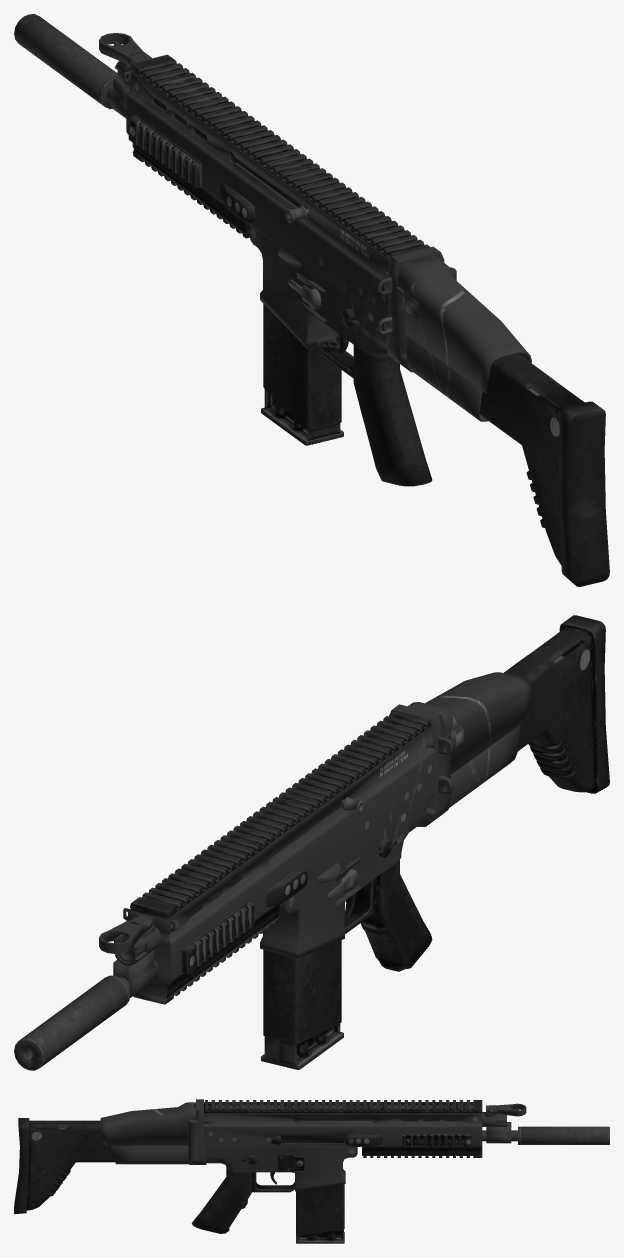
3 renders of one model, top to bottom at view 1: azimuth 30°, elevation 25°; view 2: azimuth 150°, elevation 25°; view 3: azimuth 270°, elevation 25°, orthographic. The views are drawn at different scales.
Parts seen in each view (by area): view 1: Scar_Material.003_0; view 2: Scar_Material.003_0; view 3: Scar_Material.003_0.
Boxes of the visible parts, x1,y1,x2,y2 form: Scar_Material.003_0: (14, 14, 609, 586); Scar_Material.003_0: (14, 615, 609, 1070); Scar_Material.003_0: (14, 1099, 609, 1243).
Bounding box in the file's own units: 6.42 × 21.94 × 88.46.
1 material, 1 textured.
